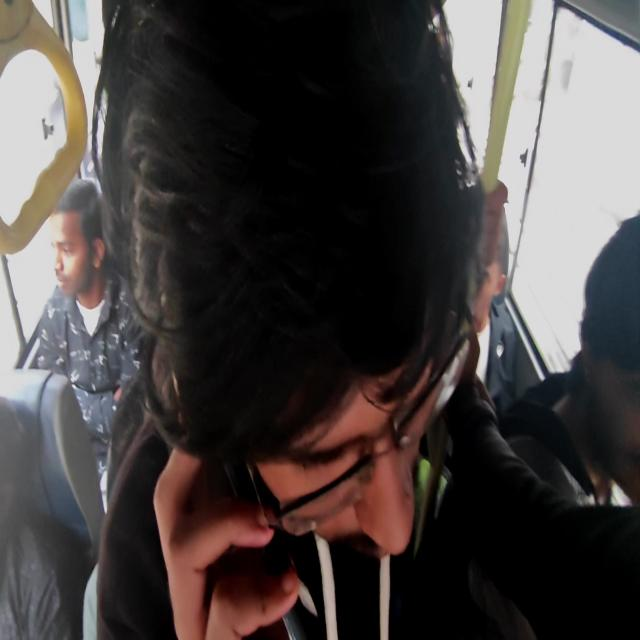person: (280, 389, 448, 587), (578, 344, 640, 499), (0, 434, 36, 602), (52, 208, 93, 298), (471, 265, 500, 334)
